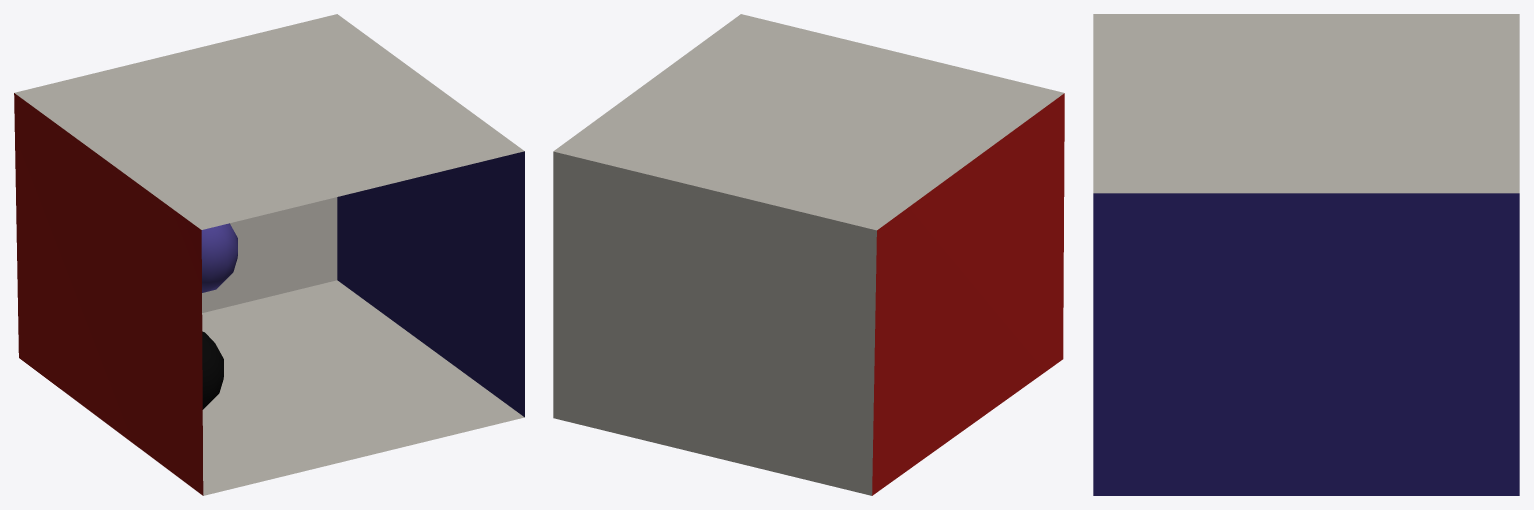
File: CornellBox-Sphere-59.obj
3 renders of one model, left to right at view 1: azimuth 30°, elevation 25°; view 2: azimuth 150°, elevation 25°; view 3: azimuth 270°, elevation 25°, orthographic. The views are drawn at different scales.
Visible parts, largest first — view 1: ceiling, leftWall, floor, rightWall, backWall, leftSphere, rightSphere; view 2: backWall, ceiling, leftWall; view 3: rightWall, ceiling.
Boxes of the visible parts, box(x1,y1,x2,y2) form: ceiling: box(14, 14, 524, 229); leftWall: box(14, 93, 203, 495); floor: box(202, 280, 524, 495); rightWall: box(337, 151, 524, 417); backWall: box(202, 197, 337, 312); leftSphere: box(201, 223, 237, 292); rightSphere: box(202, 331, 223, 409); backWall: box(553, 151, 876, 495); ceiling: box(553, 14, 1064, 230); leftWall: box(872, 93, 1064, 495); rightWall: box(1093, 193, 1519, 495); ceiling: box(1093, 14, 1519, 193).
Size of the model in its own units: 2.02 by 1.59 by 2.03.
